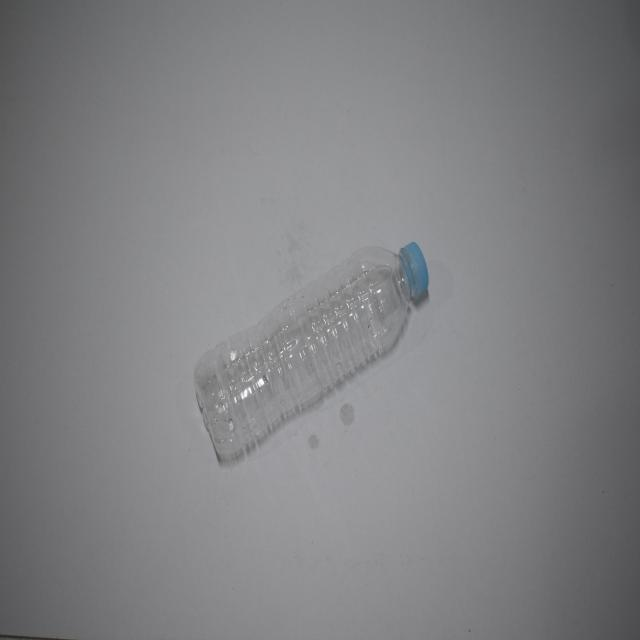bottle: (182, 240, 431, 460)
